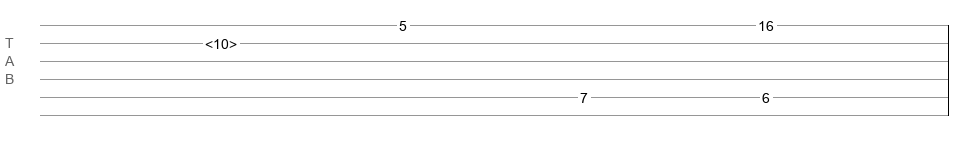16: (758, 18, 774, 28)
5: (399, 18, 407, 28)
6: (762, 90, 770, 100)
7: (580, 90, 588, 100)
harmonic: (205, 36, 237, 46)
